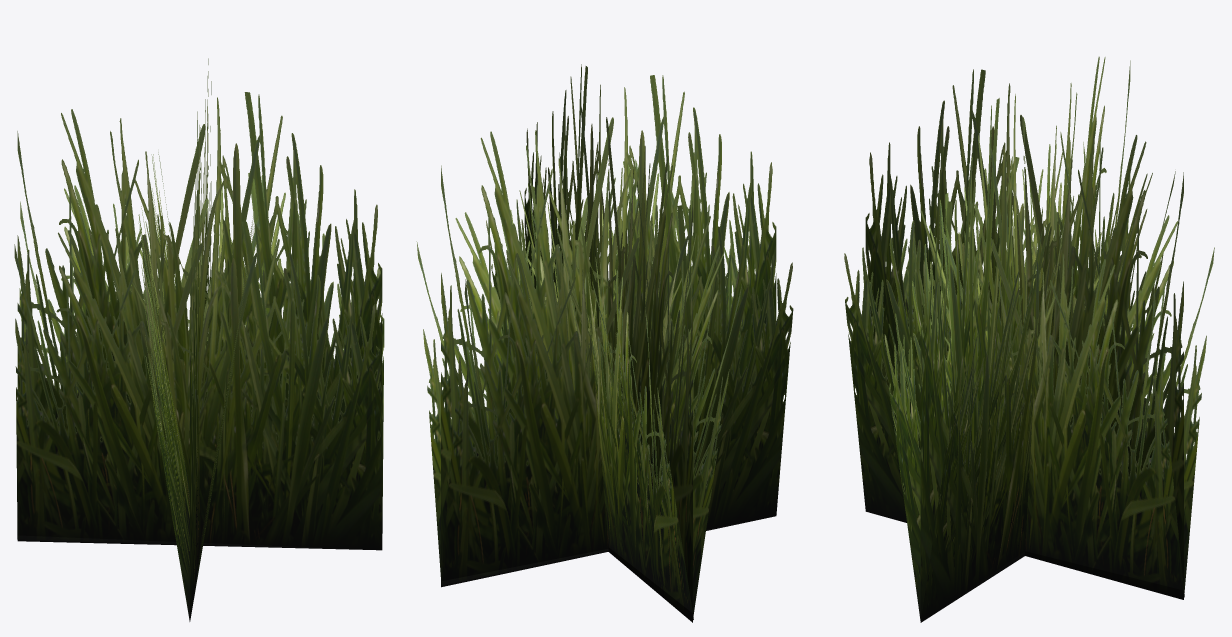
The model's file is realistic_grass.glb.
3 views of the same model, side by side, from view 1: azimuth 30°, elevation 25°; view 2: azimuth 150°, elevation 25°; view 3: azimuth 270°, elevation 25° (orthographic). The views are drawn at different scales.
Parts seen in each view (by area): view 1: RealisticGrassTuft; view 2: RealisticGrassTuft; view 3: RealisticGrassTuft.
Boxes of the visible parts, left/top/right/bottom form: RealisticGrassTuft: left=14, top=58, right=384, bottom=621; RealisticGrassTuft: left=416, top=64, right=793, bottom=622; RealisticGrassTuft: left=844, top=56, right=1214, bottom=622.
Size of the model in its own units: 0.2801 by 0.38 by 0.2801.
Materials: 1 (1 with a texture image).
